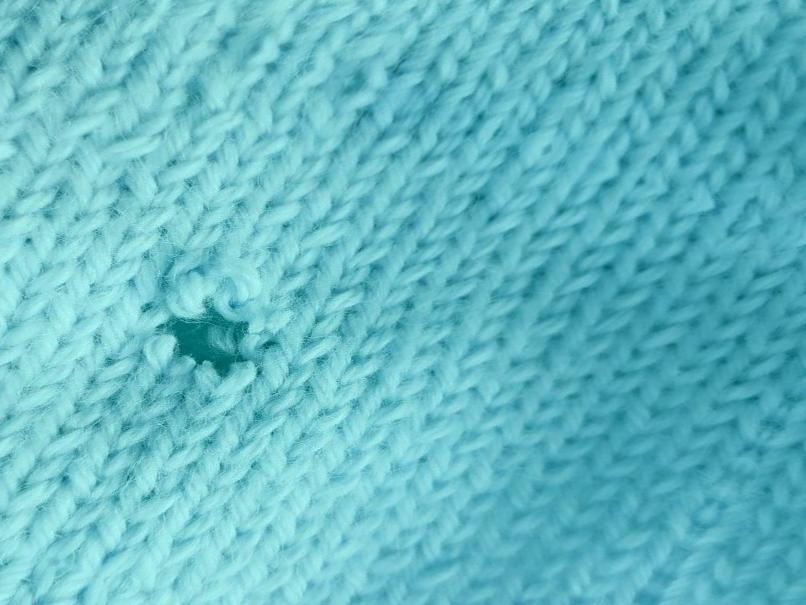hole: (129, 292, 270, 388)
